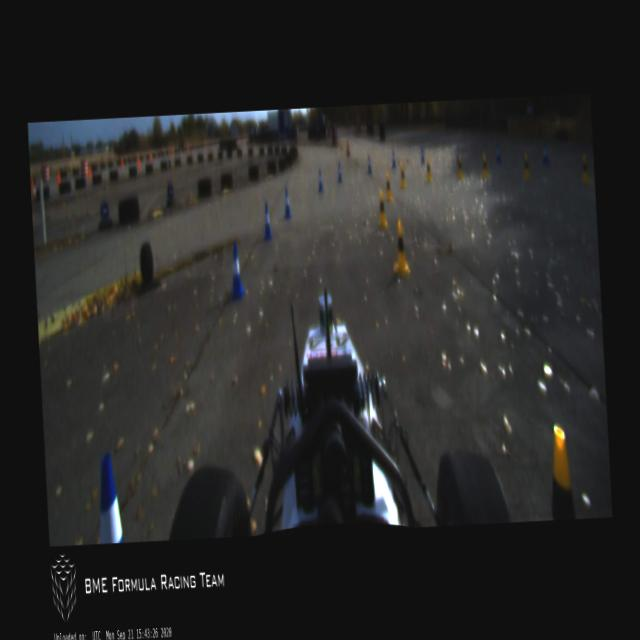blue_cone: (94, 451, 128, 544), (226, 241, 246, 303), (262, 204, 274, 238), (282, 189, 291, 217), (316, 170, 324, 192), (336, 160, 342, 182), (542, 144, 548, 164), (456, 144, 461, 164), (367, 155, 372, 174), (495, 146, 500, 164), (392, 150, 396, 170), (420, 147, 424, 164)
yellow_cone: (547, 424, 577, 520), (392, 218, 411, 276), (377, 190, 388, 228), (580, 152, 589, 186), (384, 170, 393, 200), (522, 152, 531, 180), (481, 153, 489, 180), (398, 164, 406, 190), (425, 157, 433, 182), (456, 154, 463, 179)
